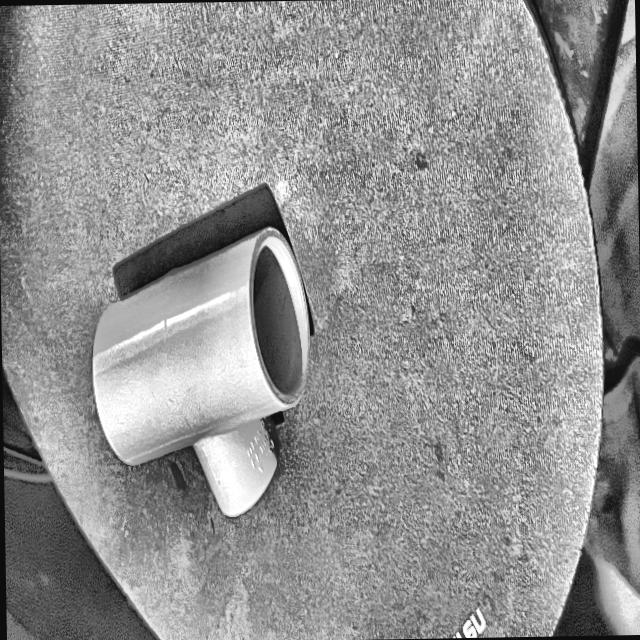EQUALTEE: (91, 226, 311, 516)
